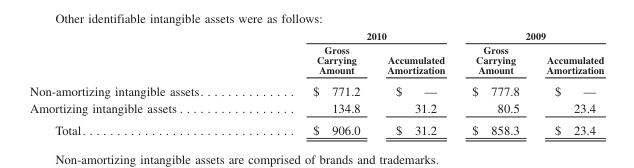table: (29, 28, 603, 137)
table column: (29, 28, 257, 137), (257, 28, 373, 137), (373, 28, 457, 137), (457, 28, 532, 137), (532, 28, 603, 137)
table column header: (29, 28, 603, 79)
table row: (29, 42, 603, 79), (29, 98, 603, 118), (29, 79, 603, 98), (29, 118, 603, 137), (29, 28, 603, 42)
table spanning cell: (257, 28, 457, 42), (457, 28, 603, 42)
